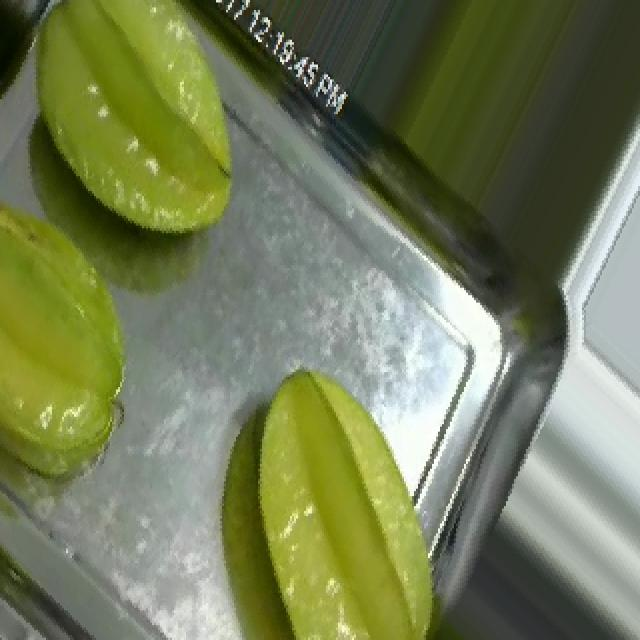fruit: (346, 0, 640, 315), (188, 335, 482, 640), (0, 0, 286, 290), (0, 166, 198, 526)
